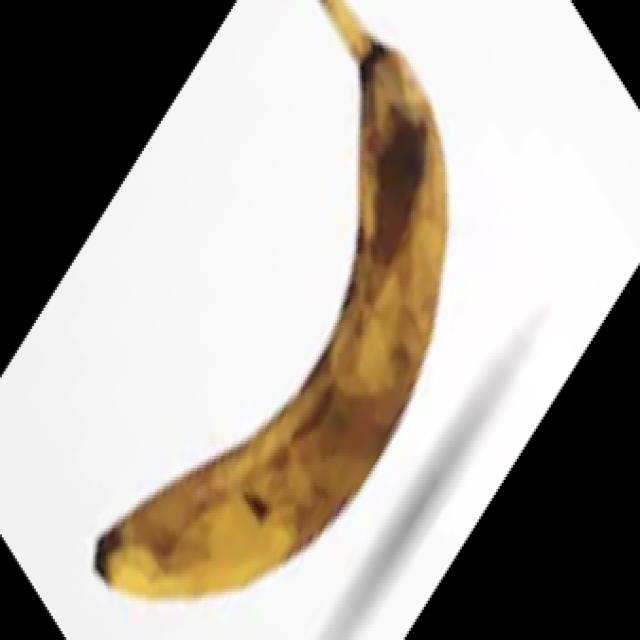overripe: (88, 0, 452, 598)
